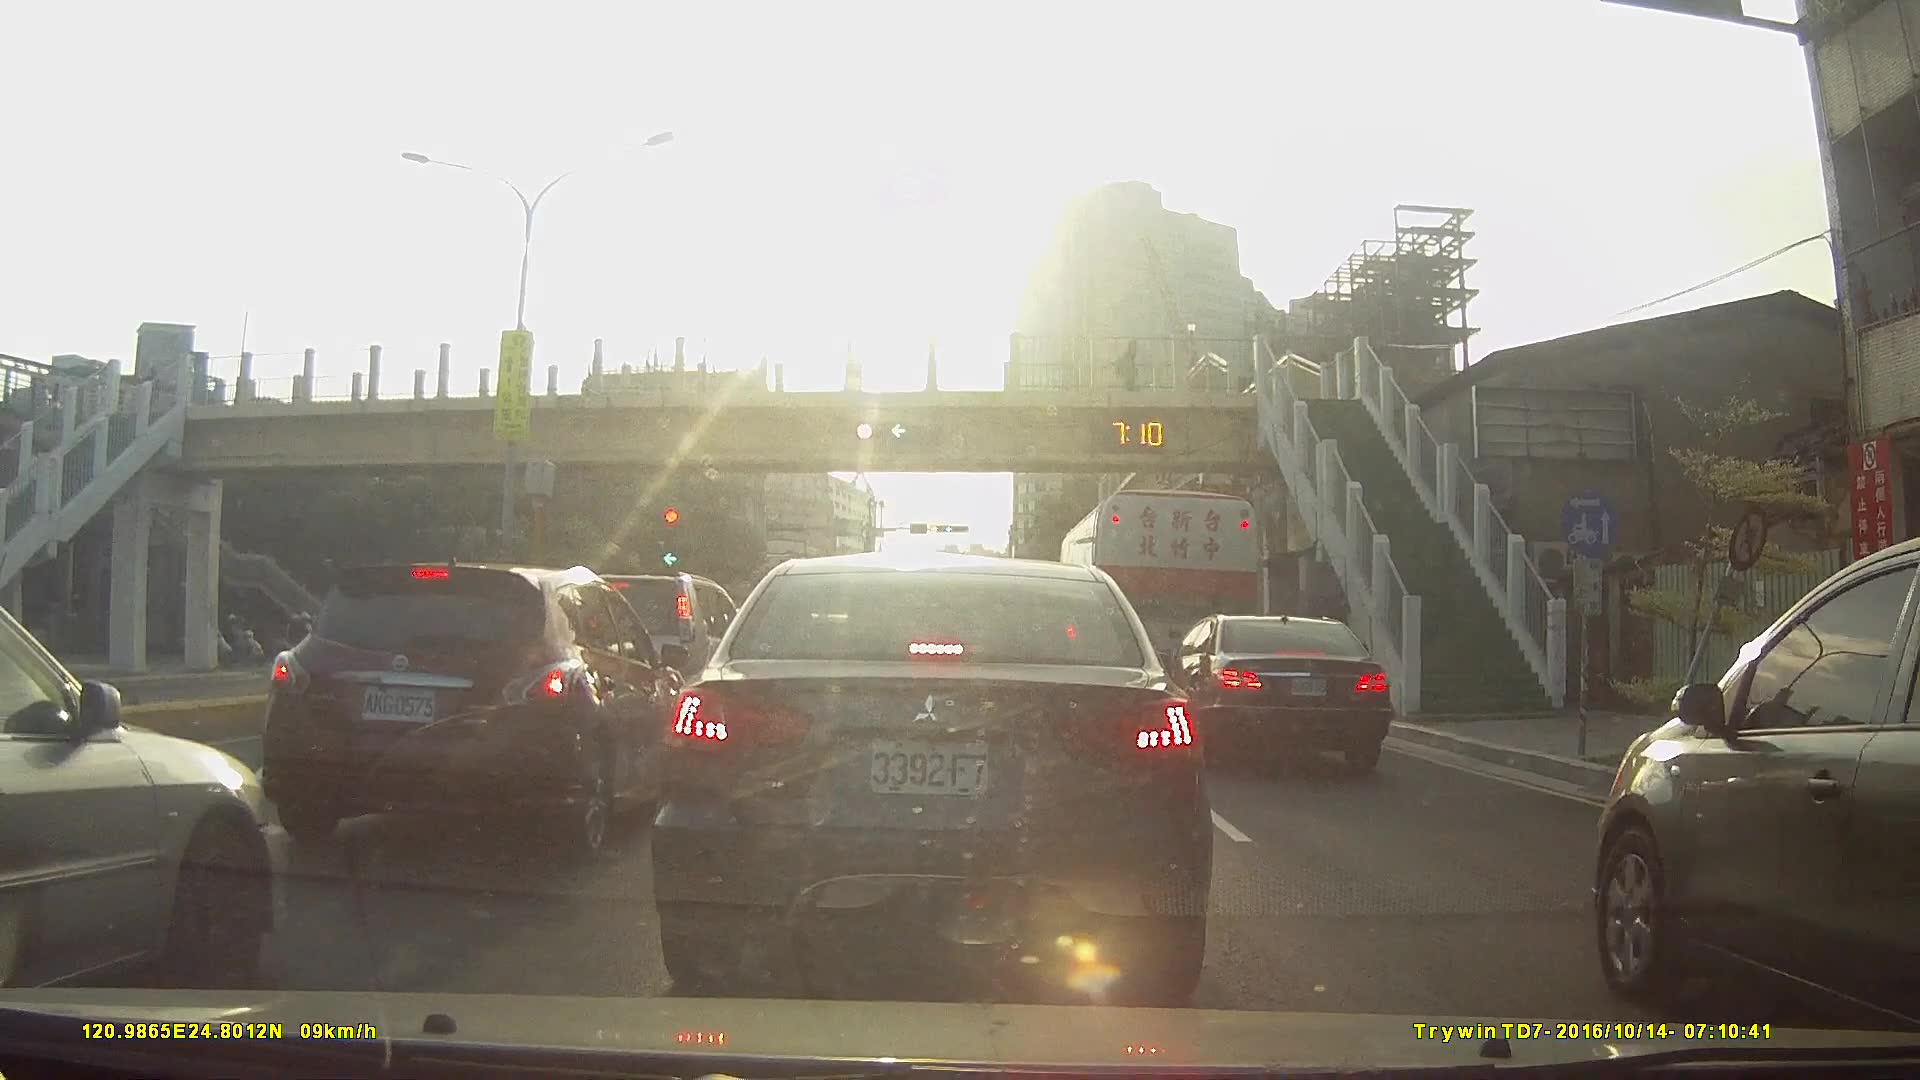pedestrian: (1116, 339, 1144, 395)
rider: (215, 613, 270, 668)
vehicle: (645, 552, 1215, 1001), (1584, 532, 1920, 1030), (258, 558, 691, 863), (0, 595, 287, 1004), (1057, 486, 1263, 726), (1155, 613, 1395, 776)
